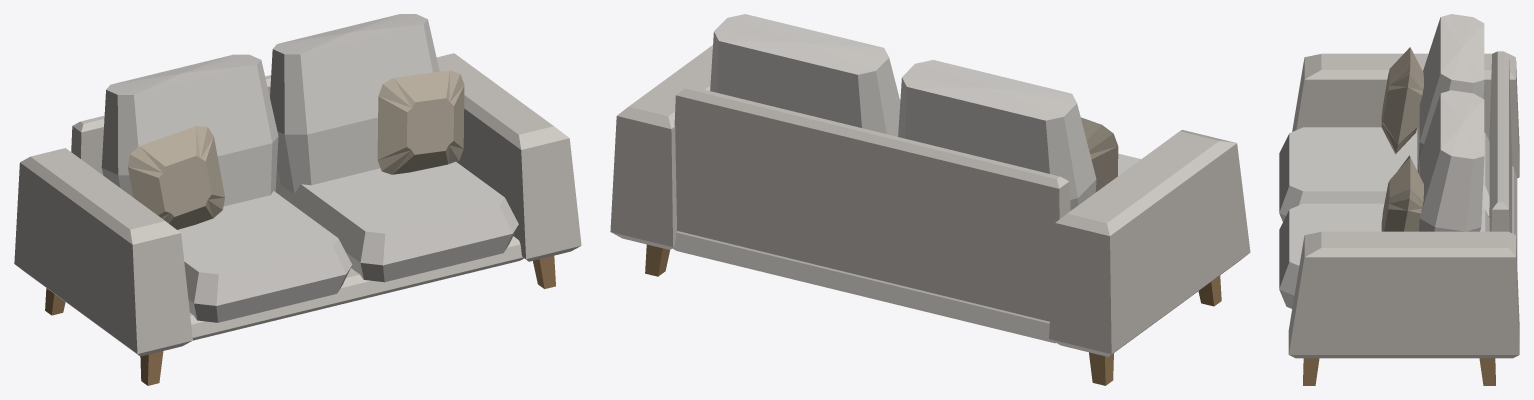
The model's file is home_sofa.glb.
3 renders of one model, left to right at view 1: azimuth 30°, elevation 25°; view 2: azimuth 150°, elevation 25°; view 3: azimuth 270°, elevation 25°, orthographic. The views are drawn at different scales.
Parts seen in each view (by area): view 1: sofa-body, scatter-r-mesh, scatter-l-mesh; view 2: sofa-body, scatter-l-mesh; view 3: sofa-body, scatter-l-mesh, scatter-r-mesh.
Part boxes in pixels (bbox=[...]): sofa-body: bbox=[14, 14, 581, 385]; scatter-r-mesh: bbox=[377, 70, 464, 174]; scatter-l-mesh: bbox=[128, 126, 224, 229]; sofa-body: bbox=[610, 14, 1250, 385]; scatter-l-mesh: bbox=[1081, 117, 1118, 192]; sofa-body: bbox=[1279, 14, 1519, 385]; scatter-l-mesh: bbox=[1381, 47, 1423, 154]; scatter-r-mesh: bbox=[1381, 155, 1423, 231].
Size of the model in its own units: 2 by 0.9591 by 1.
